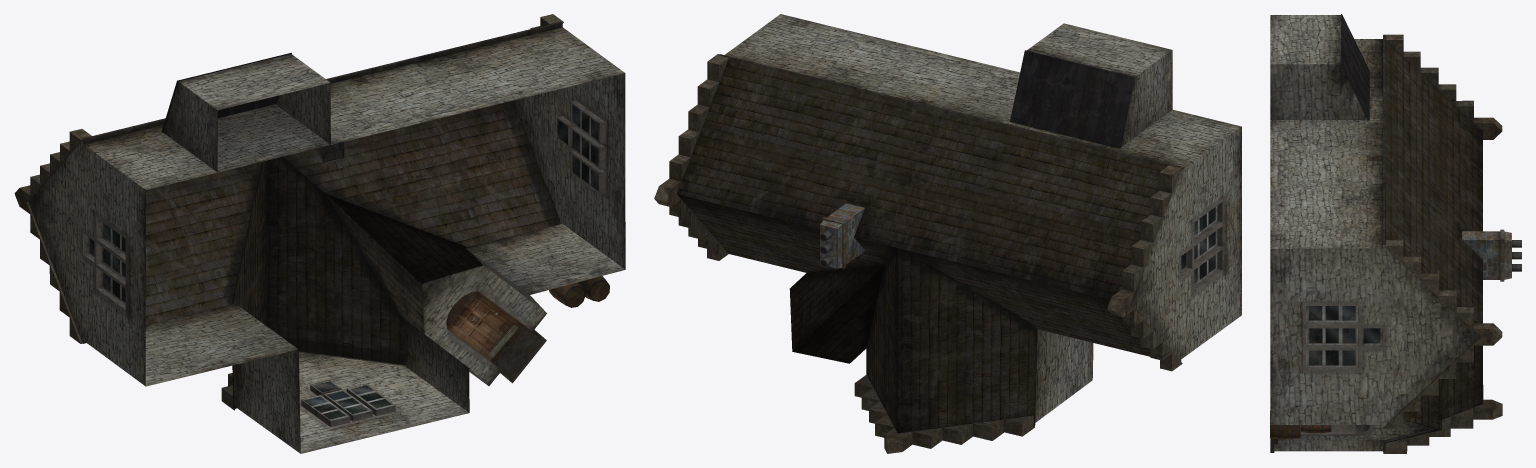
Rendered from house.FBX.
3 views of the same model, side by side, from view 1: azimuth 30°, elevation 25°; view 2: azimuth 150°, elevation 25°; view 3: azimuth 270°, elevation 25° (orthographic). The views are drawn at different scales.
Visible parts, largest first — view 1: House; view 2: House; view 3: House.
Boxes of the visible parts, x1,y1,x2,y2 form: House: (14,14,625,453); House: (654,14,1241,453); House: (1270,14,1521,453).
Size of the model in its own units: 123 by 89.37 by 62.07.
